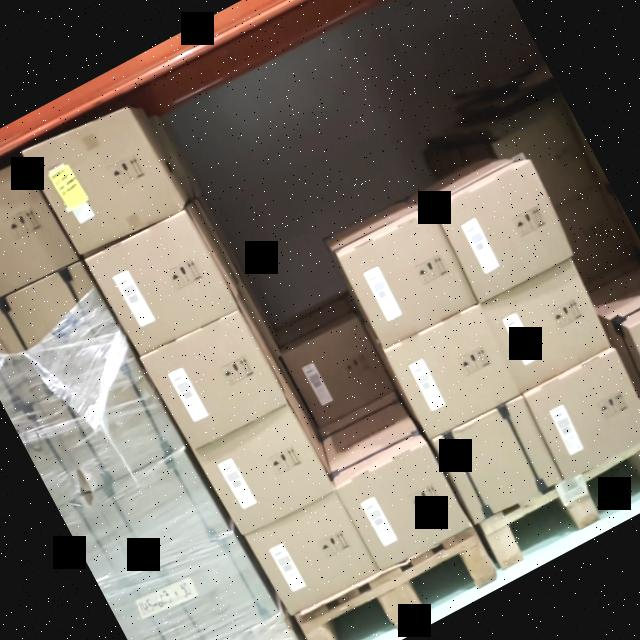box: (20, 99, 179, 258), (86, 206, 238, 358), (434, 154, 576, 300), (140, 309, 286, 449), (380, 298, 522, 438), (90, 439, 228, 578), (342, 208, 478, 349), (0, 253, 128, 402), (41, 350, 178, 488), (243, 484, 379, 620), (336, 437, 468, 567), (194, 405, 328, 532), (479, 258, 607, 388), (274, 307, 399, 435), (436, 398, 564, 522), (526, 349, 640, 477), (147, 530, 278, 640), (0, 156, 76, 311)
